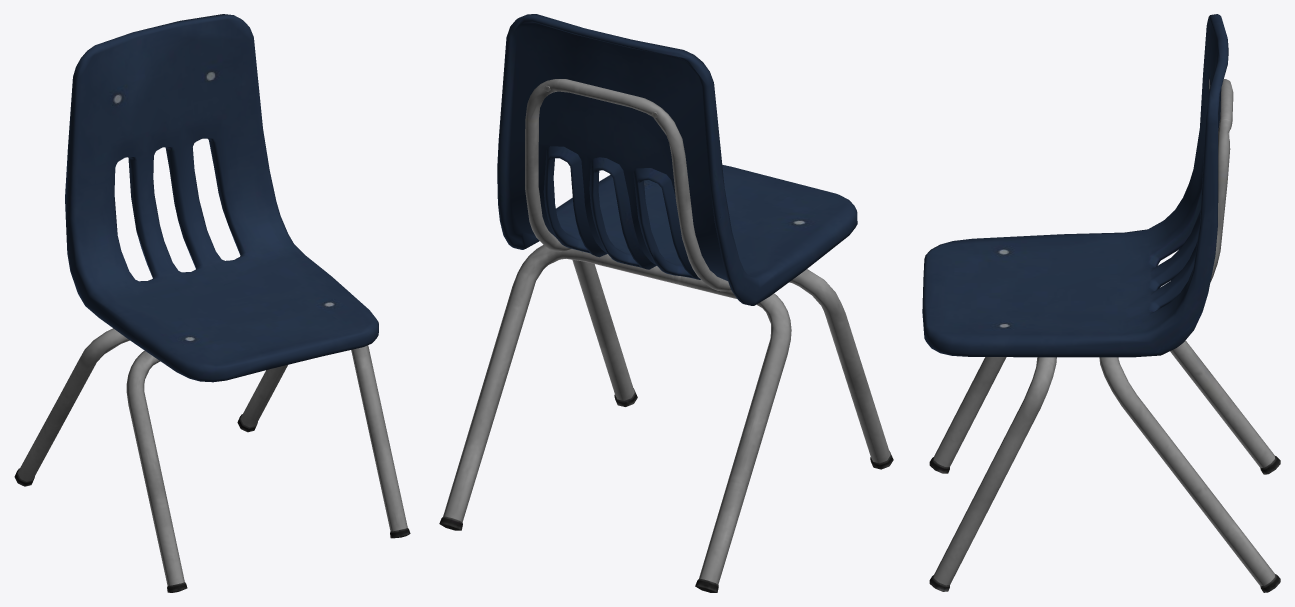
File: SchoolChair_01.glb
3 views of the same model, side by side, from view 1: azimuth 30°, elevation 25°; view 2: azimuth 150°, elevation 25°; view 3: azimuth 270°, elevation 25° (orthographic). The views are drawn at different scales.
Parts seen in each view (by area): view 1: SchoolChair_01; view 2: SchoolChair_01; view 3: SchoolChair_01.
Boxes of the visible parts, x1,y1,x2,y2 form: SchoolChair_01: (14,14,410,592); SchoolChair_01: (439,14,893,592); SchoolChair_01: (922,14,1280,592).
Bounding box in the file's own units: 0.5659 × 1.01 × 0.6752.
1 material, 1 textured.
